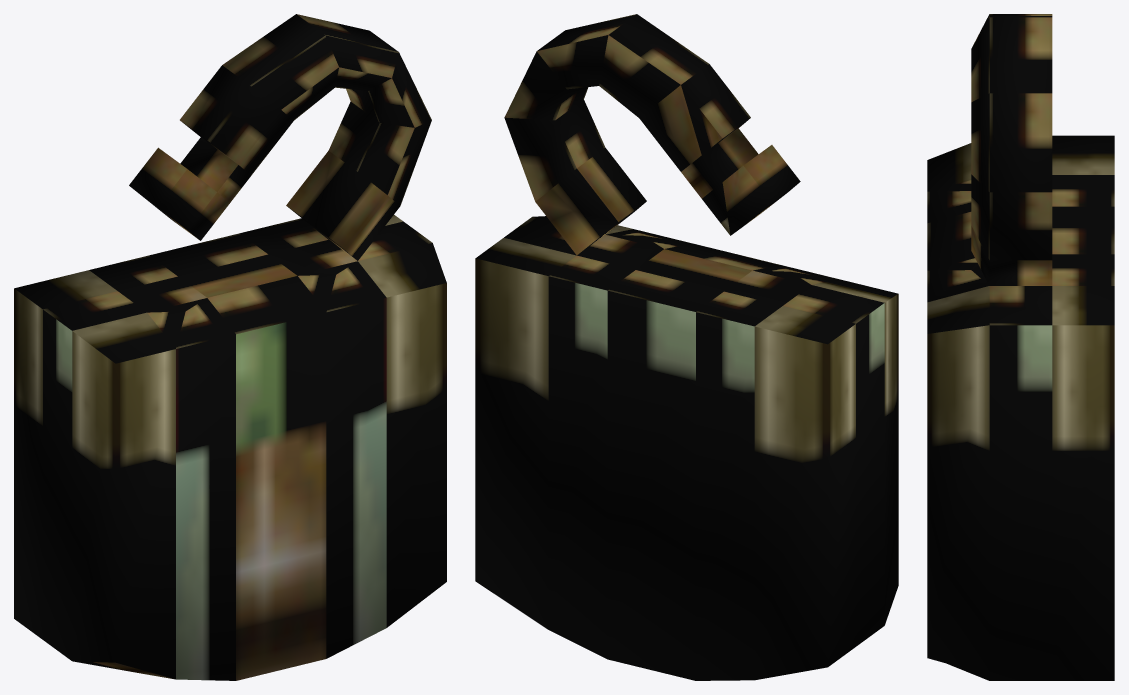
3 renders of one model, left to right at view 1: azimuth 30°, elevation 25°; view 2: azimuth 150°, elevation 25°; view 3: azimuth 270°, elevation 25°, orthographic. The views are drawn at different scales.
Parts seen in each view (by area): view 1: T1L2M003_26; view 2: T1L2M003_26; view 3: T1L2M003_26.
Part boxes in pixels (<box>): T1L2M003_26: <box>14,14,446,680</box>; T1L2M003_26: <box>475,14,898,680</box>; T1L2M003_26: <box>927,14,1114,680</box>.
Bounding box in the file's own units: 0.4795 × 0.7764 × 0.2002.
